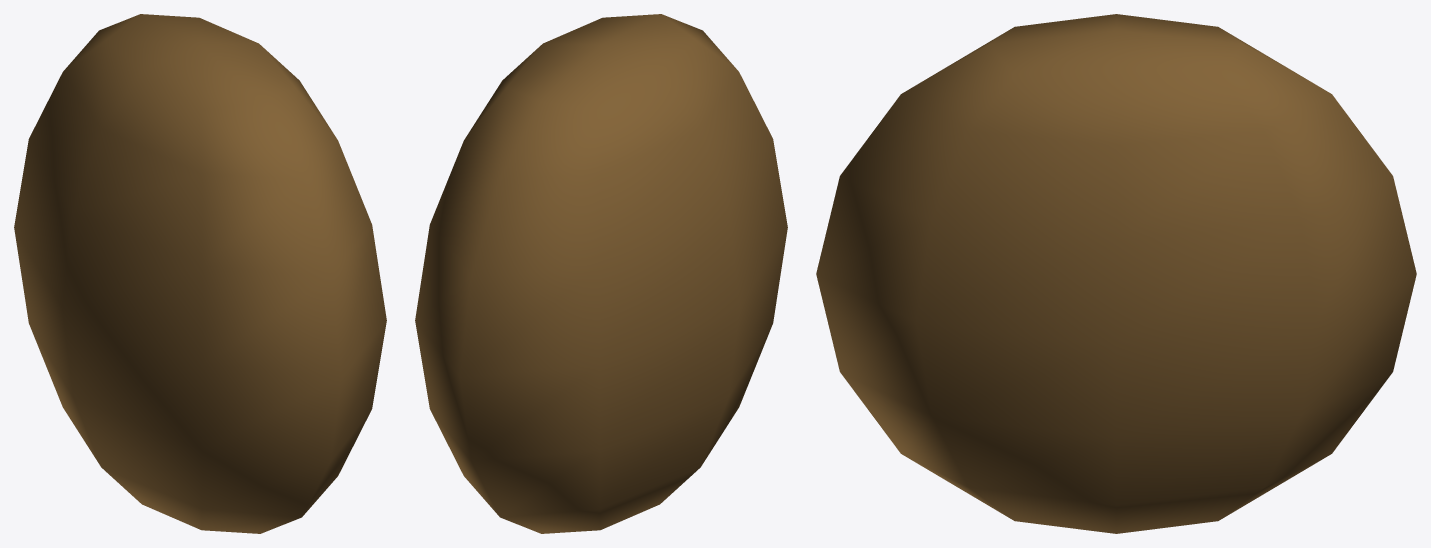
The model's file is Brown.fbx.
3 views of the same model, side by side, from view 1: azimuth 30°, elevation 25°; view 2: azimuth 150°, elevation 25°; view 3: azimuth 270°, elevation 25° (orthographic). The views are drawn at different scales.
Visible parts, largest first — view 1: brown; view 2: brown; view 3: brown.
Part boxes in pixels (box(x1,y1,x2,y2)): brown: box(14, 14, 386, 533); brown: box(415, 14, 787, 533); brown: box(816, 14, 1416, 533).
Bounding box in the file's own units: 0.0508 × 0.0804 × 0.09.
